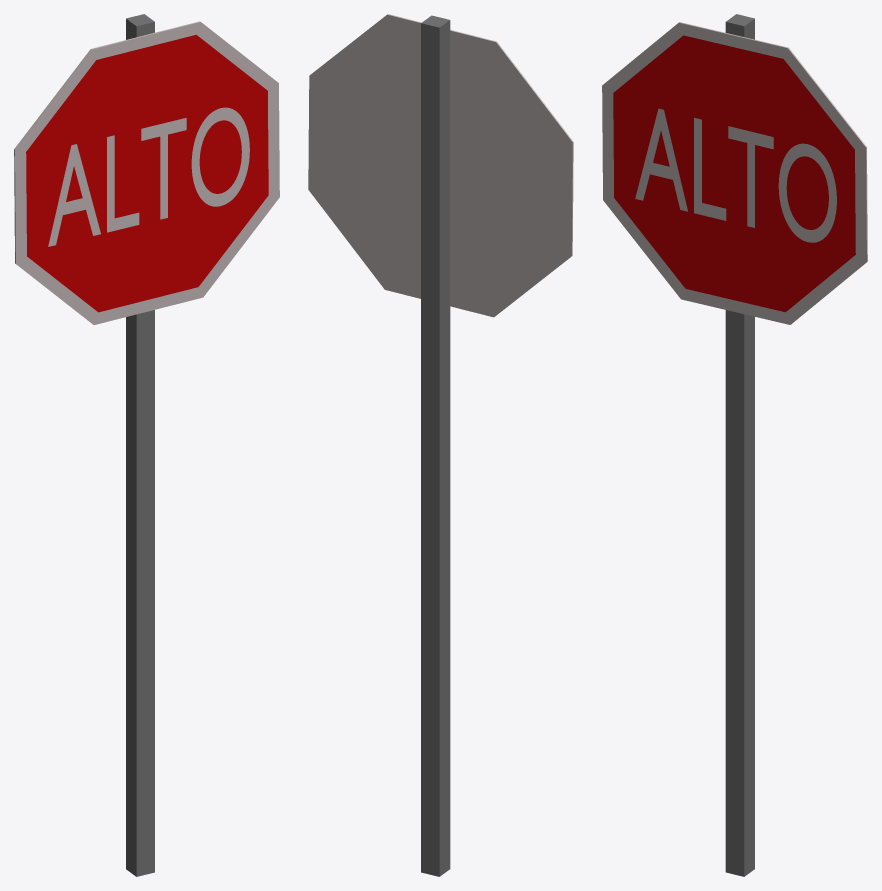
The model's file is AltoSeñalamiento.obj.
3 views of the same model, side by side, from view 1: azimuth 30°, elevation 25°; view 2: azimuth 150°, elevation 25°; view 3: azimuth 330°, elevation 25° (orthographic).
Parts seen in each view (by area): view 1: Circle, Cube, Text; view 2: Circle, Cube; view 3: Circle, Cube, Text.
Part boxes in pixels (left/top/right/bottom): Circle: left=14, top=21, right=279, bottom=324; Cube: left=126, top=14, right=154, bottom=876; Text: left=48, top=107, right=249, bottom=246; Circle: left=308, top=14, right=573, bottom=317; Cube: left=421, top=15, right=450, bottom=876; Circle: left=602, top=22, right=867, bottom=324; Cube: left=725, top=14, right=754, bottom=876; Text: left=635, top=108, right=836, bottom=242.
Bounding box in the file's own units: 1.43 × 4.4 × 0.1102.
